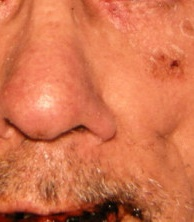SJS-TEN: (0, 187, 161, 222), (133, 39, 190, 87)
